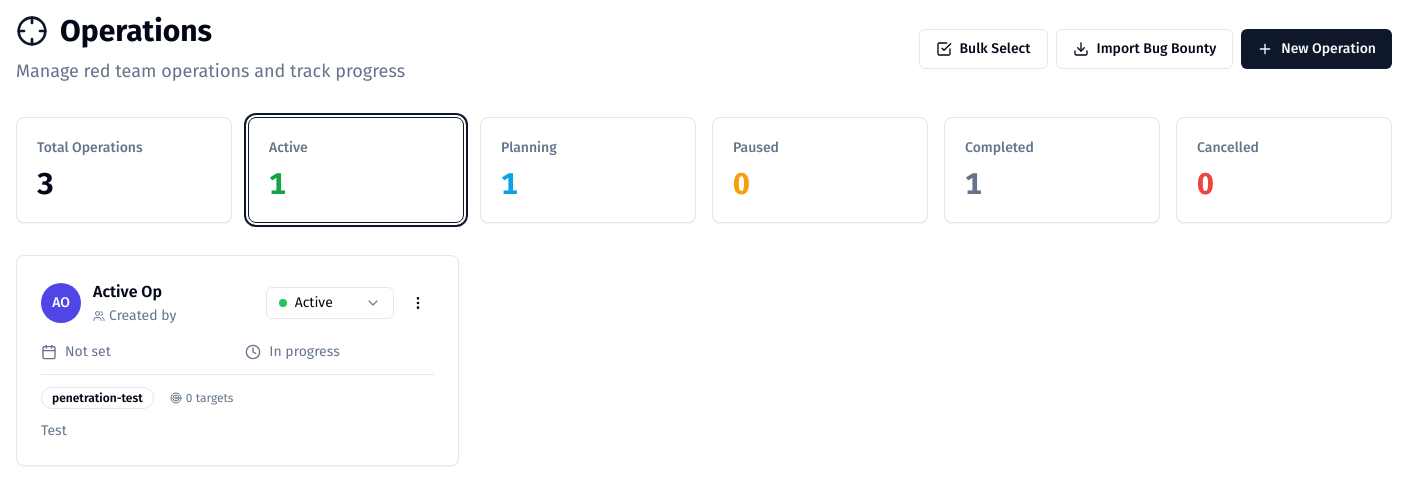
Test case: Operations Page › bulk mode › should toggle to Exit Bulk Mode when clicked
The width and height of the screenshot is (1409, 483).
Click the button "Bulk Select". click: (983, 49)
box: [918,29,1048,69]
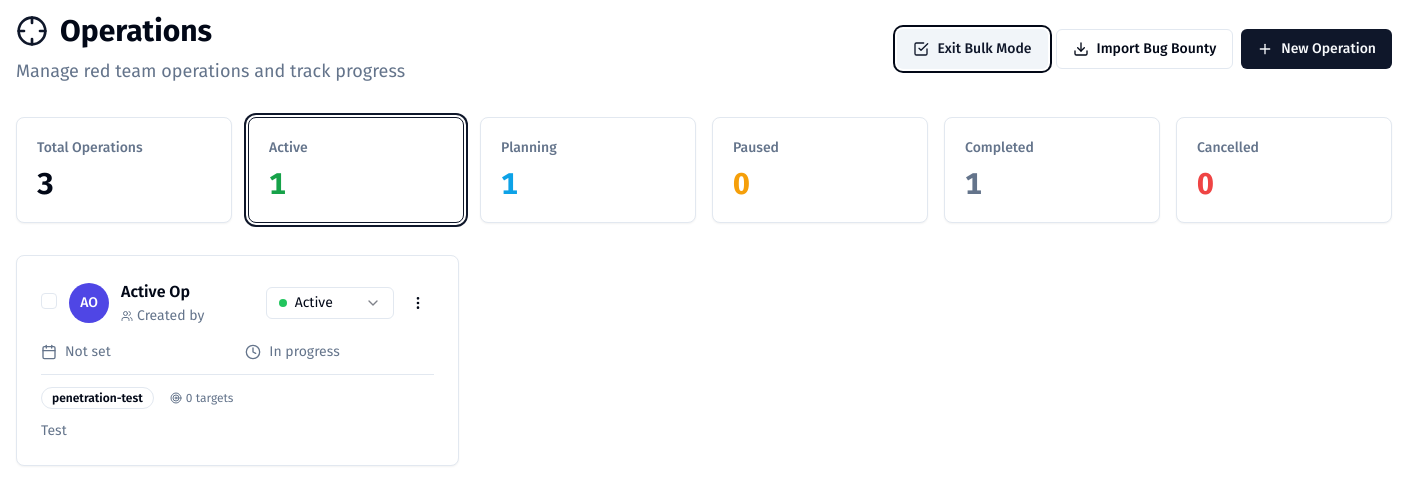
Expected: the button "Exit Bulk Mode" is shown, [897,29,1048,69]
